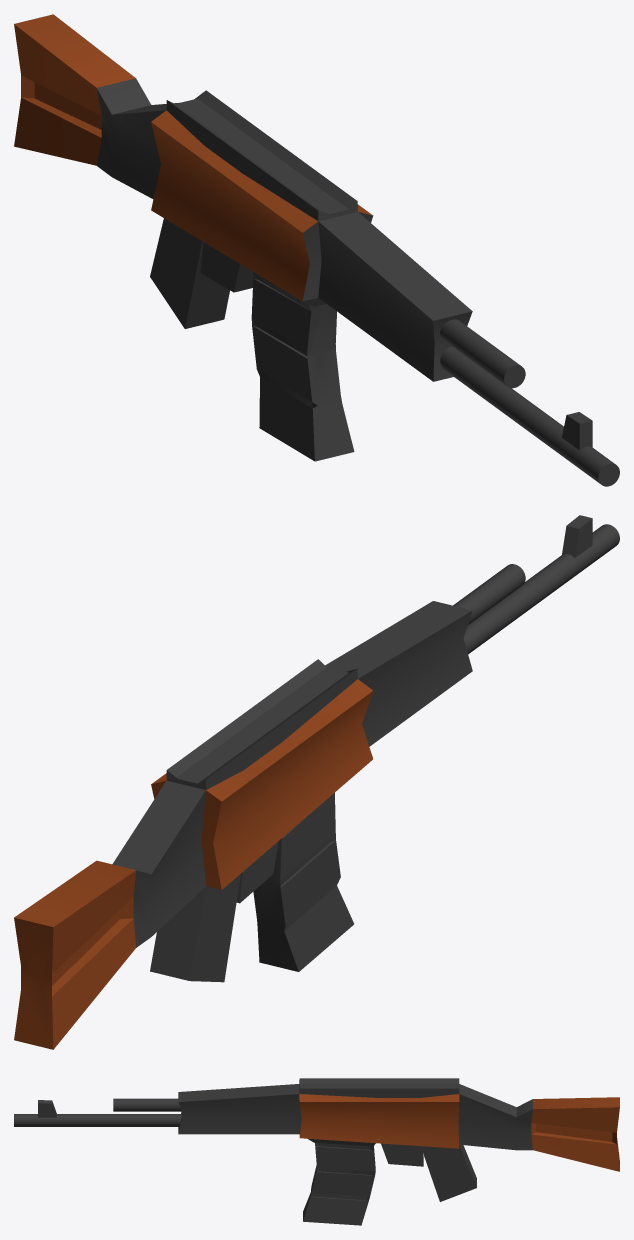
3 views of the same model, one above another, from view 1: azimuth 30°, elevation 25°; view 2: azimuth 150°, elevation 25°; view 3: azimuth 270°, elevation 25° (orthographic). The views are drawn at different scales.
Visible parts, largest first — view 1: ak47; view 2: ak47; view 3: ak47.
Part boxes in pixels (box(x1,y1,x2,y2)): ak47: box(14, 14, 619, 486); ak47: box(14, 515, 619, 1049); ak47: box(14, 1078, 619, 1225).
Size of the model in its own units: 53.86 by 190 by 759.
